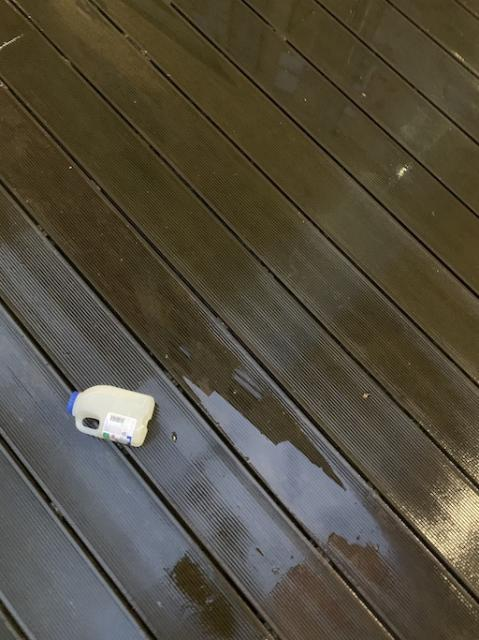plastic: (67, 384, 154, 445)
